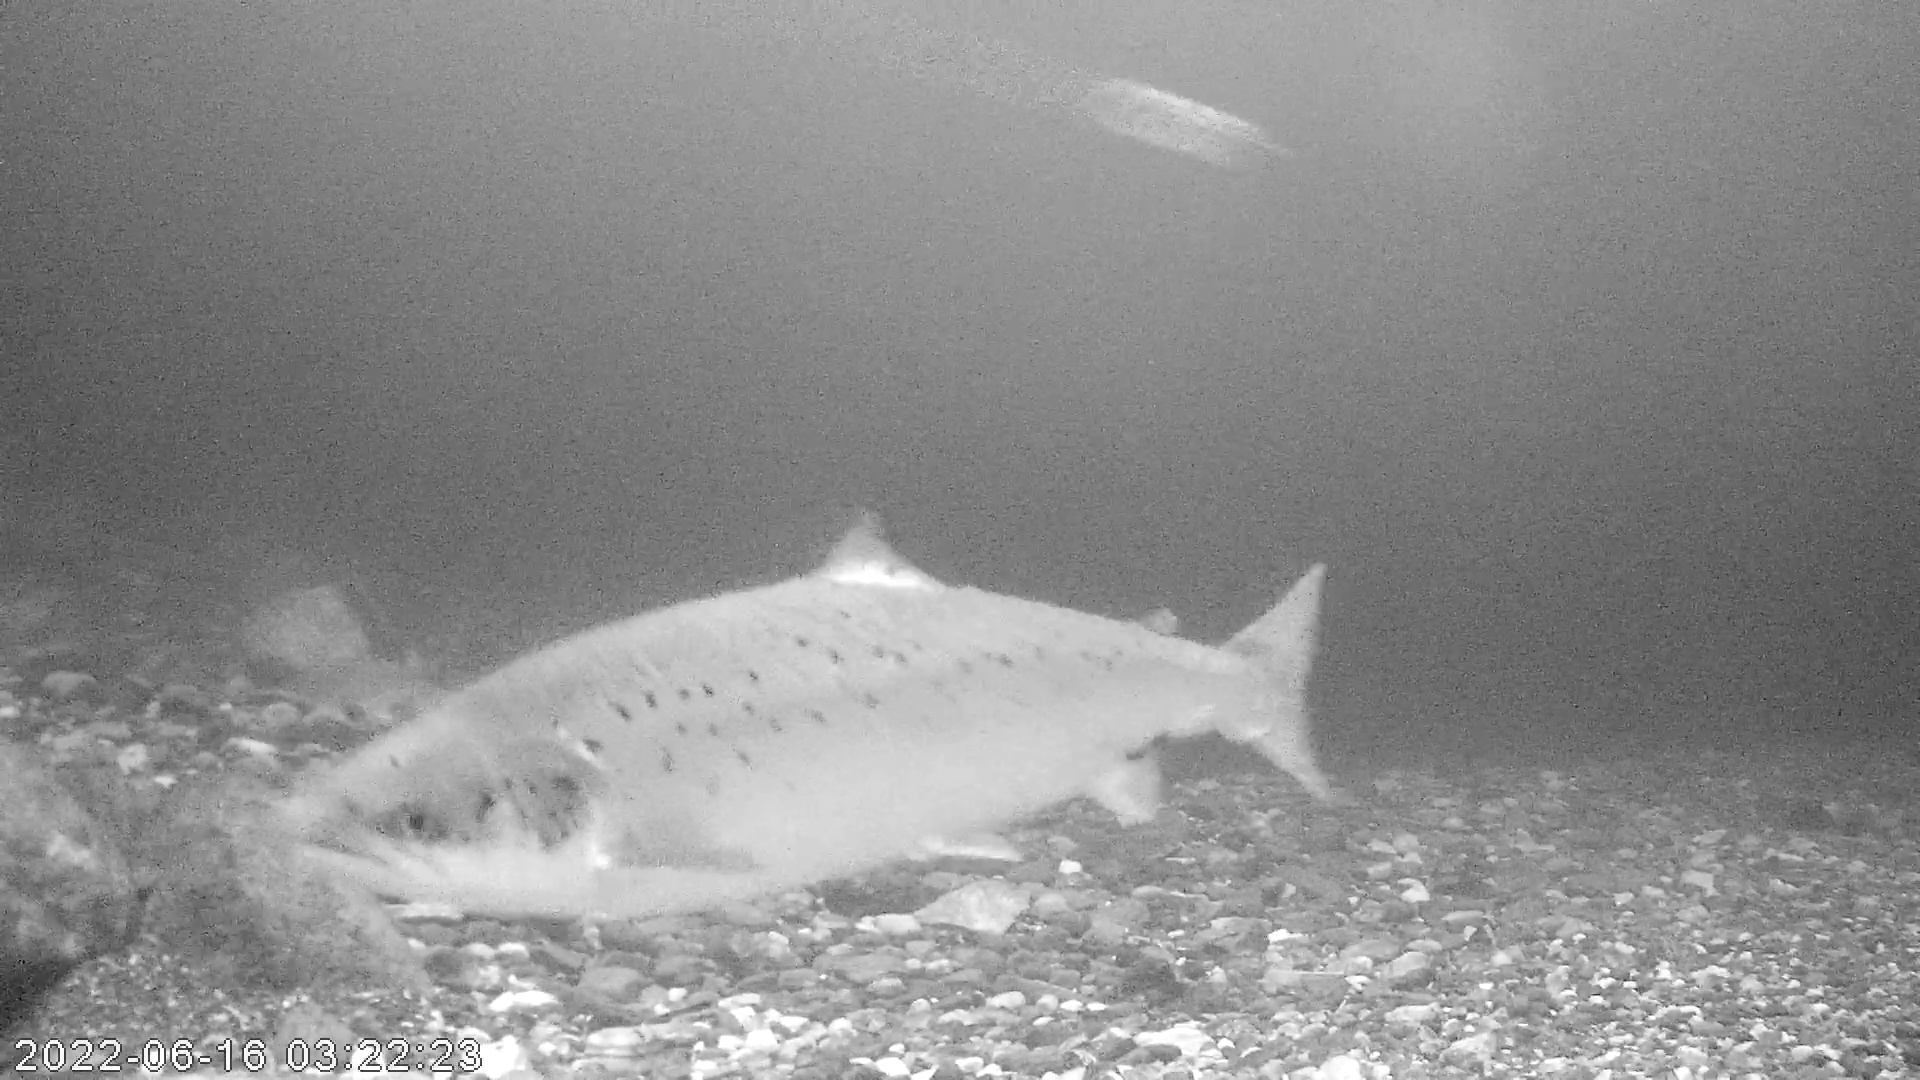salmon: (274, 505, 1327, 920)
